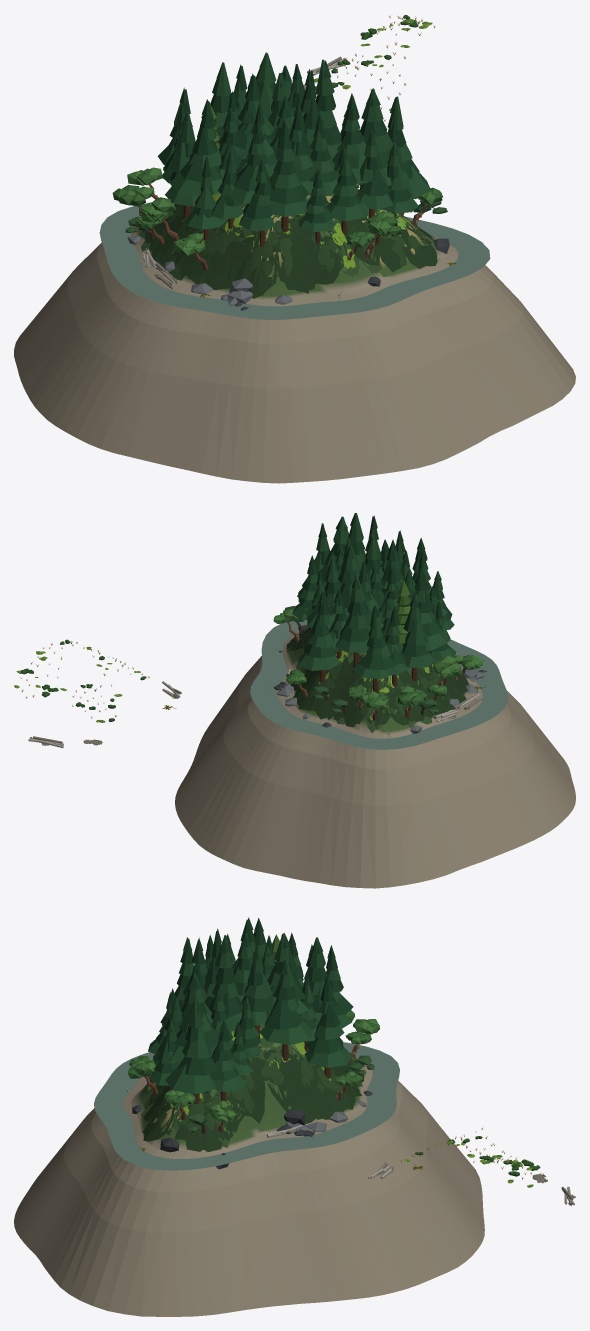
The model's file is chunk_-2_-1.glb.
The picture shows the model from 3 angles, top to bottom: view 1: azimuth 30°, elevation 25°; view 2: azimuth 150°, elevation 25°; view 3: azimuth 270°, elevation 25°; orthographic projection. The views are drawn at different scales.
Parts seen in each view (by area): view 1: chunk_-2_-1; view 2: chunk_-2_-1; view 3: chunk_-2_-1.
Boxes of the visible parts, left/top/right/bottom form: chunk_-2_-1: left=14, top=15, right=575, bottom=483; chunk_-2_-1: left=14, top=513, right=575, bottom=888; chunk_-2_-1: left=14, top=917, right=575, bottom=1316.
Bounding box in the file's own units: 110 × 66.77 × 112.
